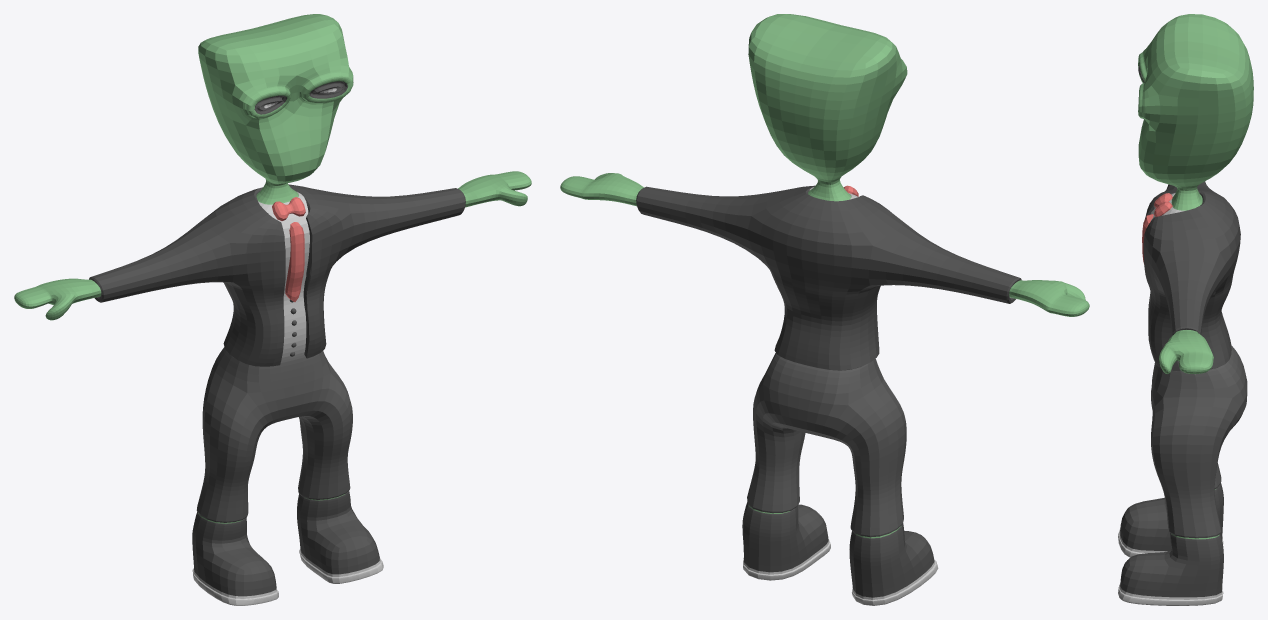
File: uzaylı.fbx
3 renders of one model, left to right at view 1: azimuth 30°, elevation 25°; view 2: azimuth 150°, elevation 25°; view 3: azimuth 270°, elevation 25°, orthographic. The views are drawn at different scales.
Parts seen in each view (by area): view 1: Cube.001, Cube, Cube.005, Cube.004, Cube.002, Cube.006; view 2: Cube.001, Cube, Cube.005, Cube.004; view 3: Cube, Cube.001, Cube.005, Cube.004, Cube.003.
Part boxes in pixels (box(x1,y1,x2,y2)): Cube.001: box(89, 184, 465, 366); Cube: box(14, 14, 531, 523); Cube.005: box(196, 347, 352, 522); Cube.004: box(192, 490, 383, 605); Cube.002: box(258, 192, 309, 360); Cube.006: box(285, 222, 304, 301); Cube.001: box(636, 185, 1021, 370); Cube: box(560, 14, 1089, 538); Cube.005: box(747, 353, 906, 537); Cube.004: box(742, 502, 938, 605); Cube: box(1138, 14, 1253, 539); Cube.001: box(1143, 181, 1240, 371); Cube.005: box(1151, 345, 1247, 538); Cube.004: box(1118, 483, 1223, 605); Cube.003: box(1154, 193, 1172, 216).
Size of the model in its own units: 514 by 519 by 120.
